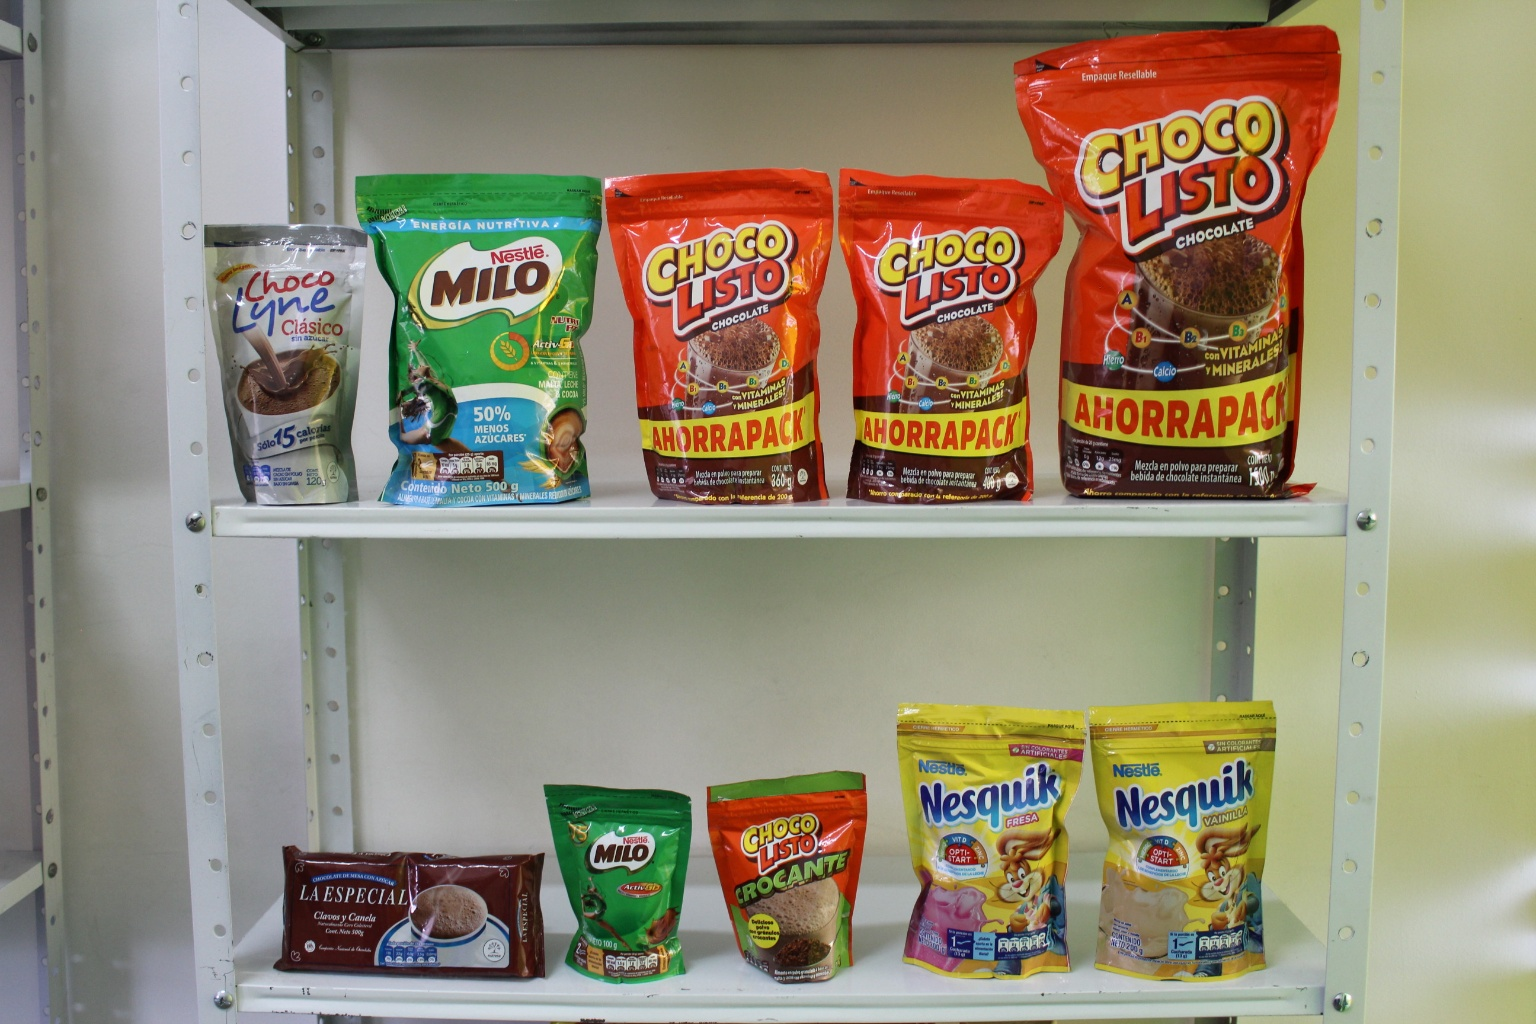COL0170102DYP10000: (714, 763, 885, 979)
COL0170103DYP1,500: (1023, 17, 1334, 506)
COL0170103DYP36000: (610, 145, 839, 510)
COL0170103DYP40000: (835, 157, 1077, 501)
COL0170203DYP10000: (543, 766, 709, 992)
COL0170205DYP50000: (359, 165, 613, 514)
COL0170305DYP20000: (885, 690, 1077, 966)
COL0170306DYP20000: (1086, 694, 1272, 983)
